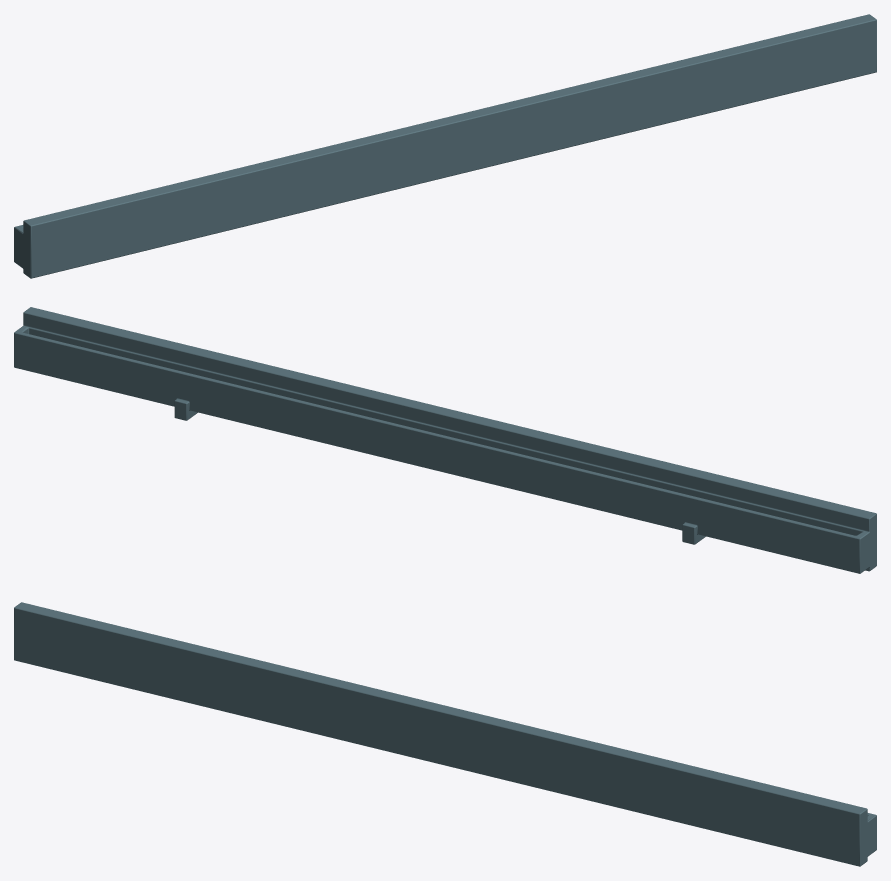
File: SM_Roof_Trim_4m.glb
3 renders of one model, top to bottom at view 1: azimuth 30°, elevation 25°; view 2: azimuth 150°, elevation 25°; view 3: azimuth 330°, elevation 25°, orthographic.
Visible parts, largest first — view 1: SM_Roof_Trim_4m; view 2: SM_Roof_Trim_4m; view 3: SM_Roof_Trim_4m.
Part boxes in pixels (x1,y1,x2,y2): SM_Roof_Trim_4m: (14, 14, 876, 278); SM_Roof_Trim_4m: (14, 307, 876, 573); SM_Roof_Trim_4m: (14, 602, 876, 866).
Size of the model in its own units: 4 by 0.26 by 0.16.
